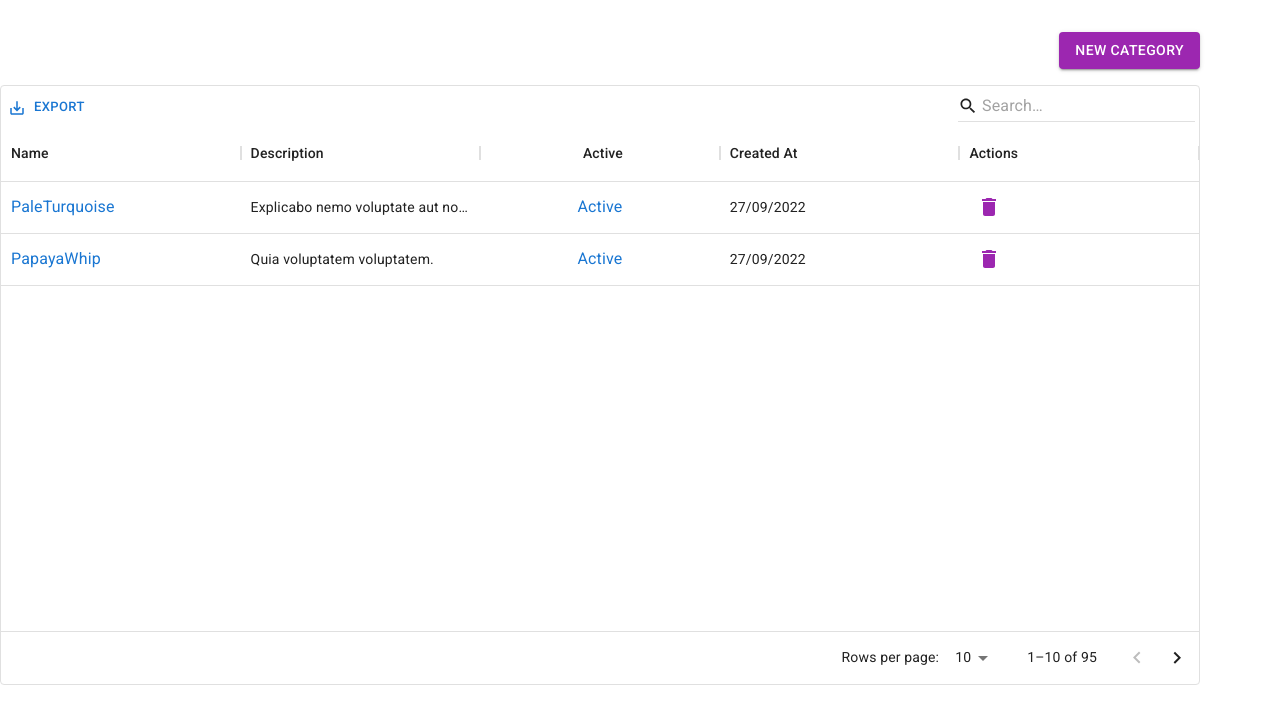
Test: ListCategory › should handle On PageChange
This screenshot has width=1280, height=720.
Expected: the text "PaleTurquoise" is shown, [11,195,115,219]
Click the button with test id "KeyboardArrowRightIcon" at [1177, 658], box [1157,638,1197,678]
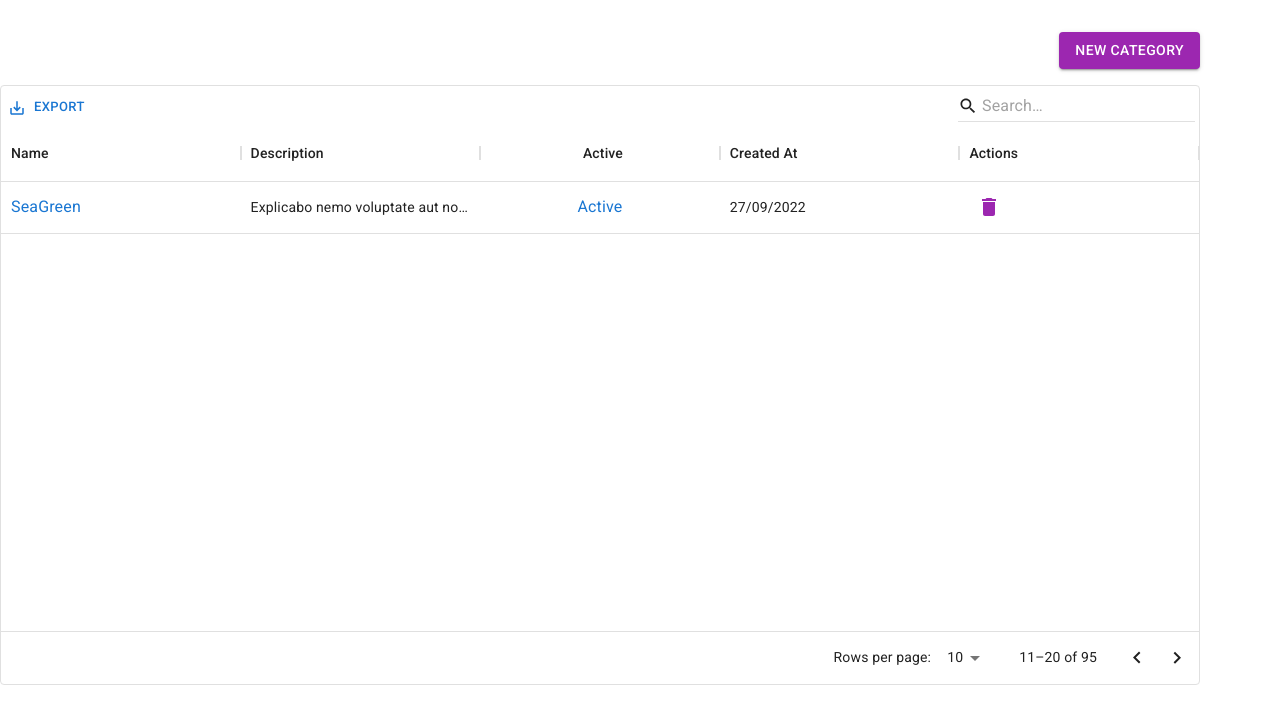
Expected: the text "SeaGreen" is shown, [11,195,81,219]
